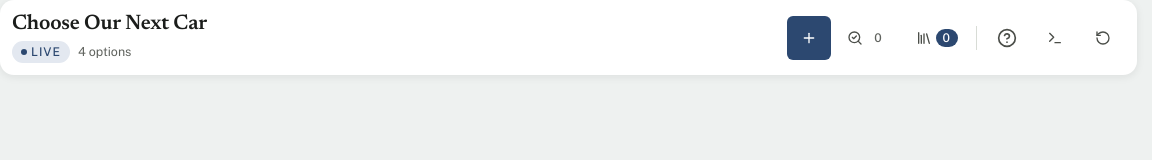
WorkspaceAppBar › tooltips on the collapsed icon controls › labels workspace-app-bar-create-menu on hover once it is icon-only at narrow width
The width and height of the screenshot is (1152, 160).
Step 1. Hover over the button with test id "workspace-app-bar-create-menu" → [809, 38], box [787,16,831,60]
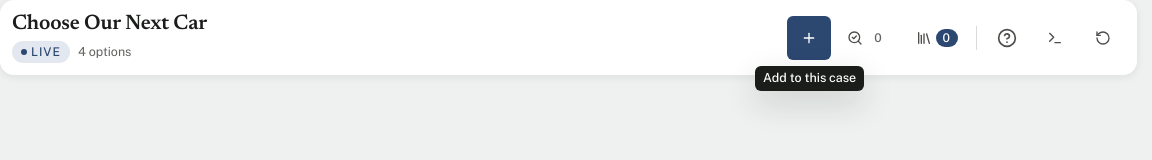
Result: the tooltip with test id "tooltip-content" reads "Add to this case" at [763,70,856,85]
